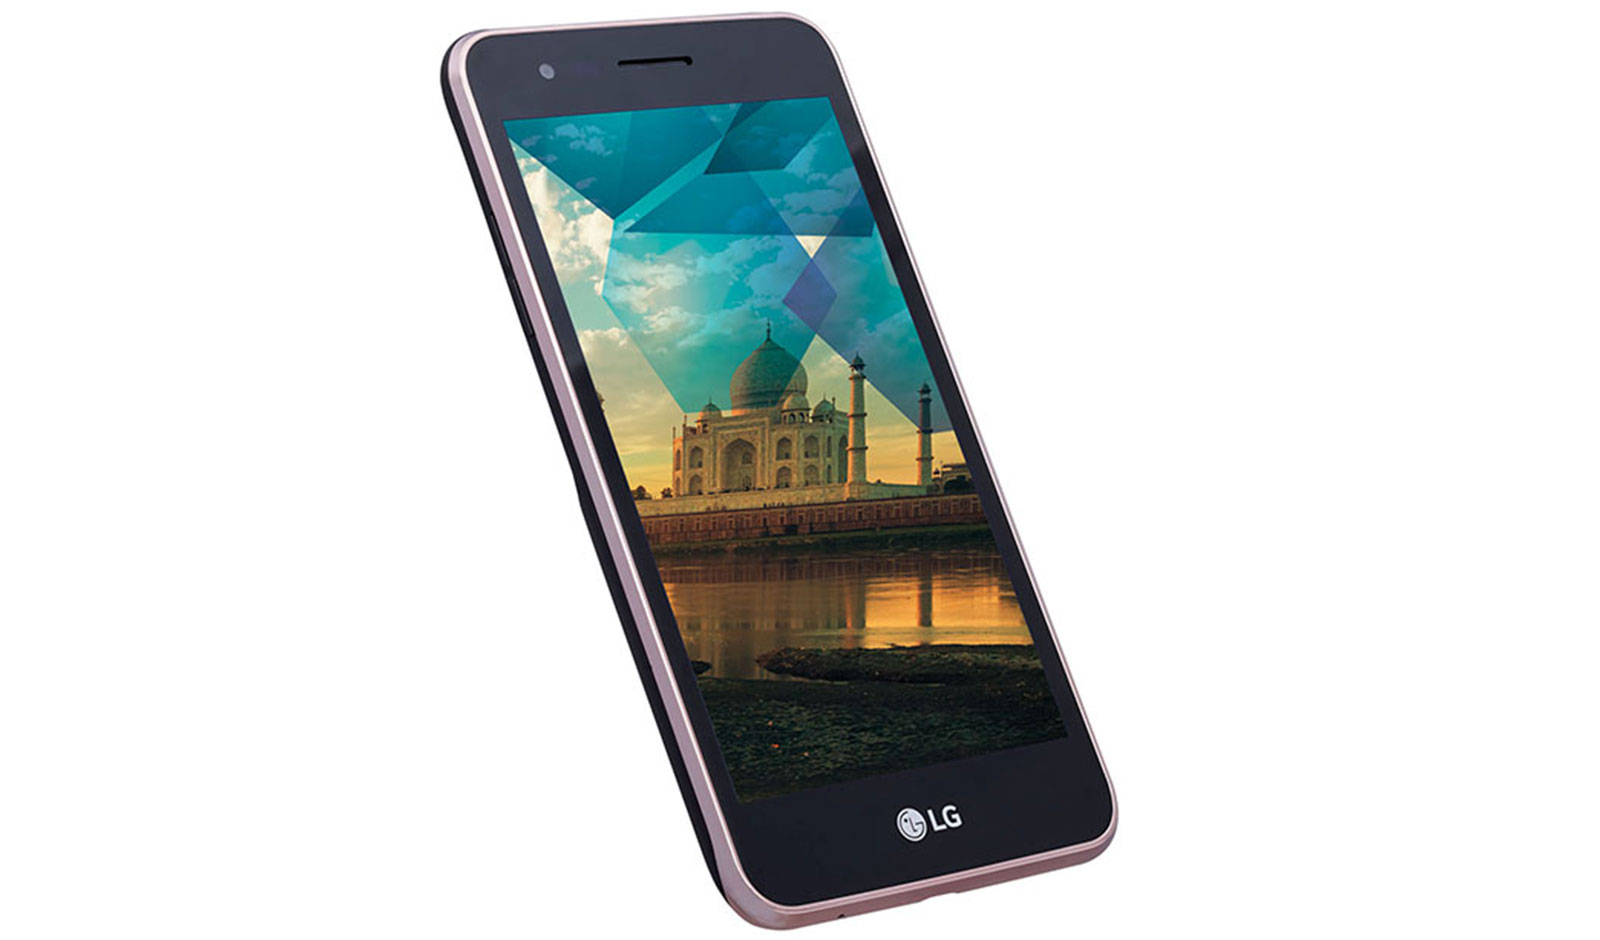mobile: (441, 16, 1175, 939)
